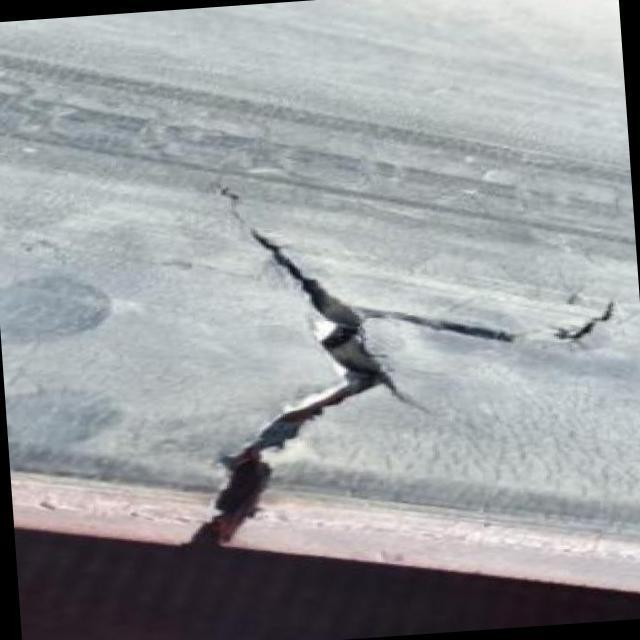Tear: (174, 184, 522, 560), (550, 296, 627, 350)
